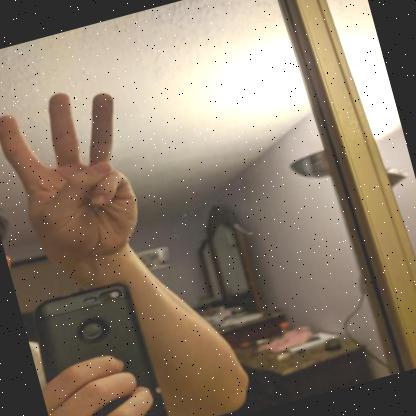W: (0, 92, 137, 273)
